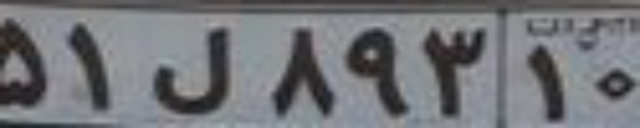0: (590, 67, 639, 100)
1: (65, 21, 109, 111), (524, 43, 566, 123)
3: (422, 26, 486, 116)
5: (0, 20, 52, 106)
8: (267, 28, 334, 116)
9: (344, 29, 406, 116)
lam: (147, 25, 233, 114)
